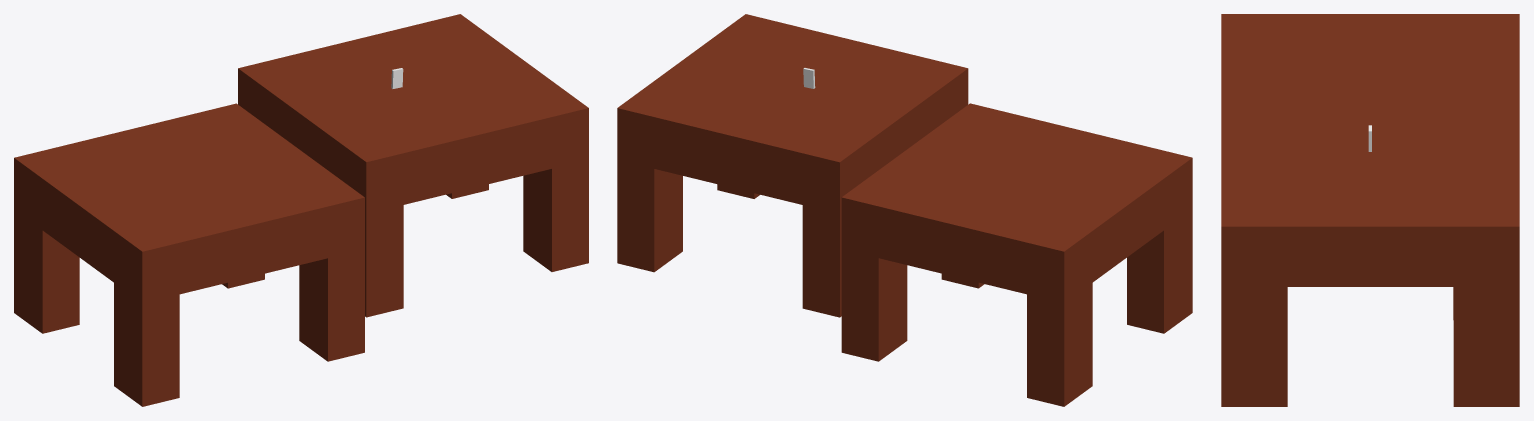
File: domino_table.dae
The picture shows the model from 3 angles, left to right: view 1: azimuth 30°, elevation 25°; view 2: azimuth 150°, elevation 25°; view 3: azimuth 270°, elevation 25°; orthographic projection. The views are drawn at different scales.
Parts seen in each view (by area): view 1: base (×7); view 2: base (×7); view 3: base (×4).
Boxes of the visible parts, bbox=[...] form: base (×7): bbox=[14, 14, 588, 406]; base (×7): bbox=[617, 14, 1192, 406]; base (×4): bbox=[1221, 14, 1519, 406].
Bounding box in the file's own units: 1.81 × 0.9009 × 0.8227.
